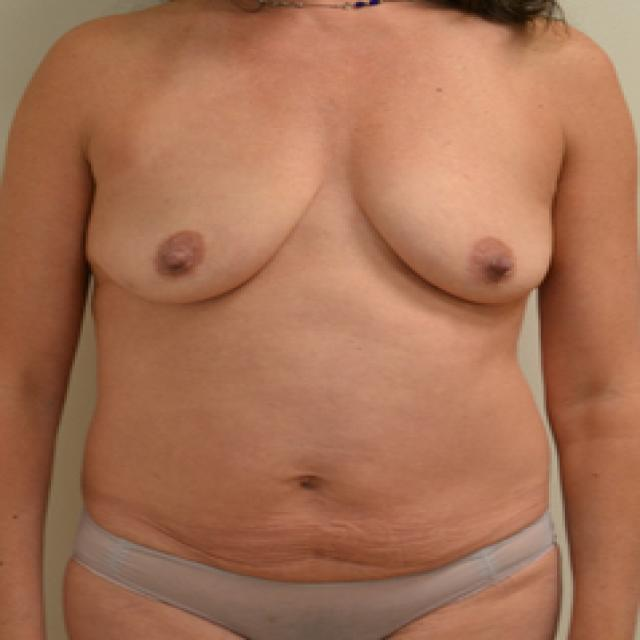Seno ileso: (76, 131, 331, 321), (341, 129, 571, 321)
